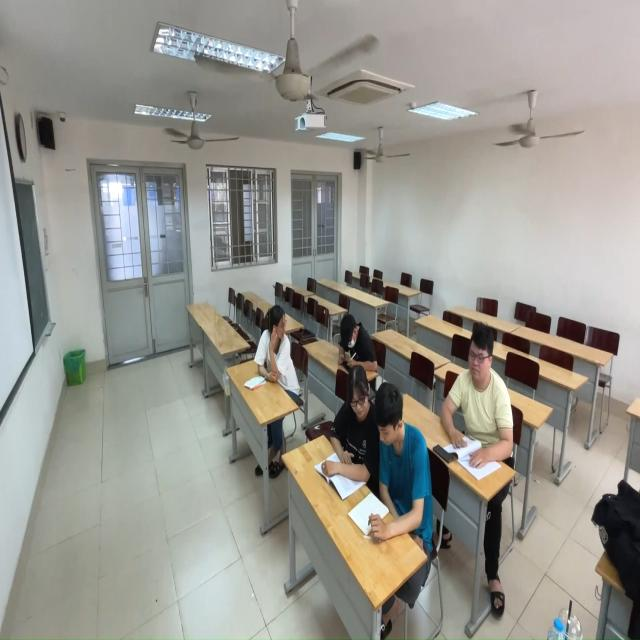raise_hand: (254, 305, 297, 393)
read: (348, 369, 442, 541), (438, 323, 516, 483), (313, 364, 375, 507), (336, 302, 377, 368)
